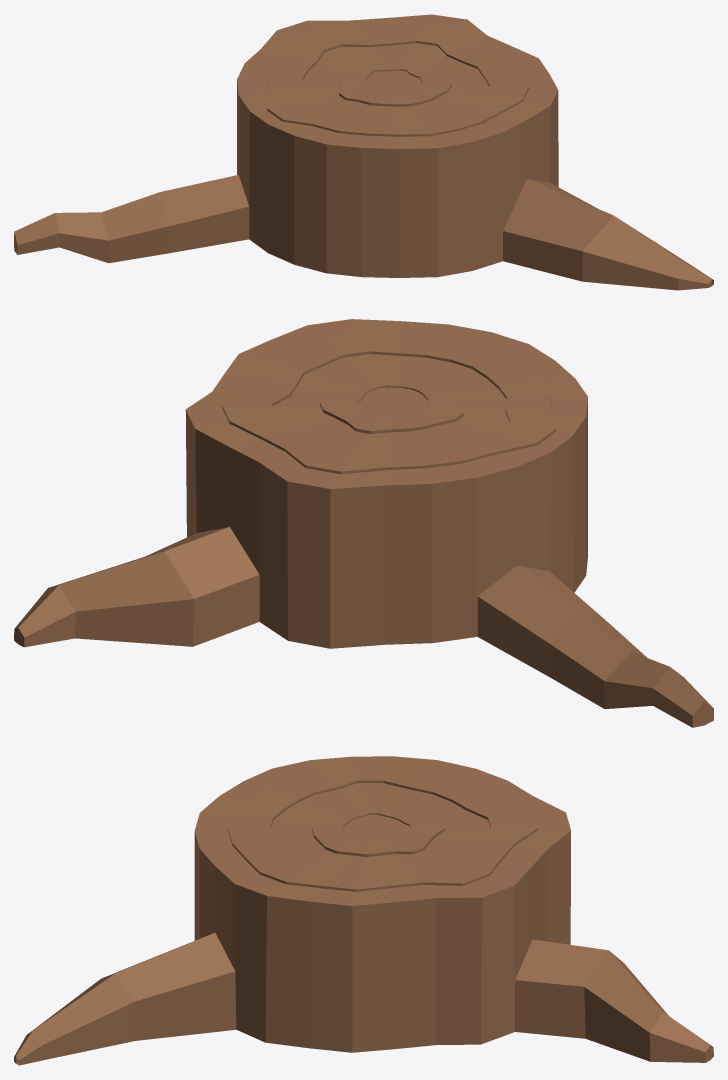
Rendered from Trunk_v09.fbx.
3 views of the same model, one above another, from view 1: azimuth 30°, elevation 25°; view 2: azimuth 150°, elevation 25°; view 3: azimuth 270°, elevation 25° (orthographic). The views are drawn at different scales.
Visible parts, largest first — view 1: Trunk_v09; view 2: Trunk_v09; view 3: Trunk_v09.
Part boxes in pixels (x1=…): Trunk_v09: x1=14, y1=14, x2=713, y2=290; Trunk_v09: x1=14, y1=319, x2=713, y2=727; Trunk_v09: x1=14, y1=756, x2=713, y2=1065.
Bounding box in the file's own units: 22.59 × 6.71 × 24.98.
Materials: 1 (1 with a texture image).
